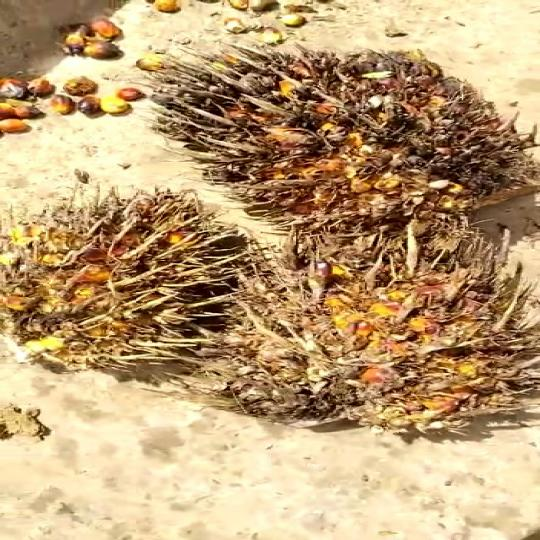terlalu masak: (122, 35, 540, 222), (201, 230, 540, 433), (0, 190, 257, 370)
